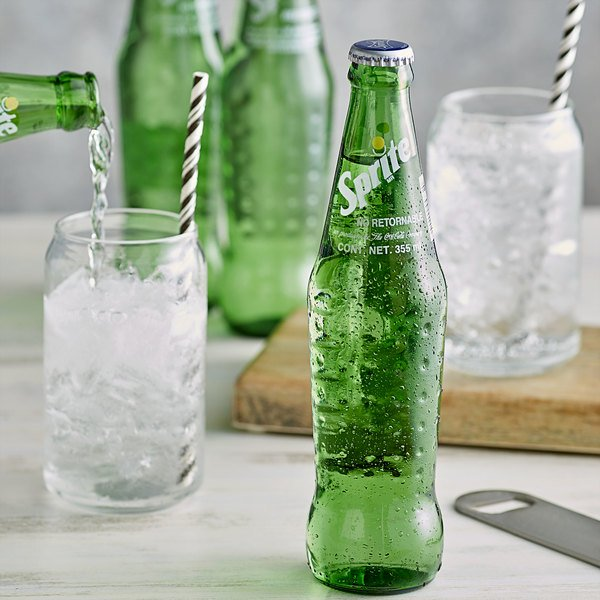Sprite: (300, 34, 461, 580)
